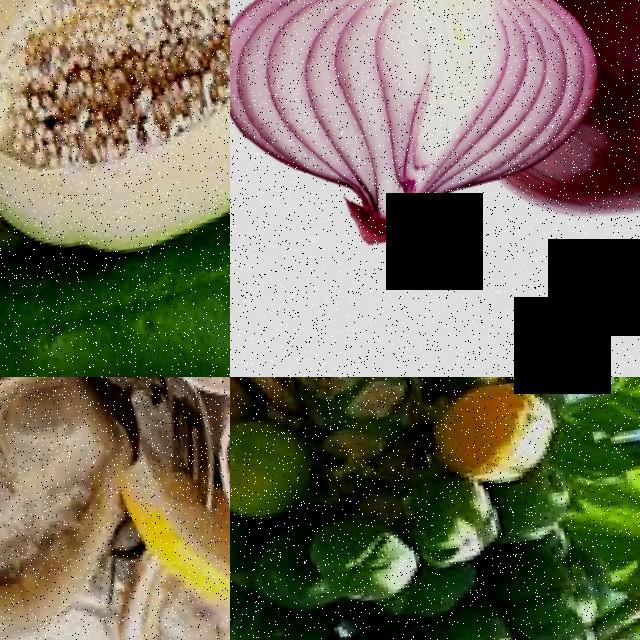onion: (230, 0, 569, 222), (568, 0, 640, 215)
oysters: (0, 377, 132, 640)
pawpaw: (0, 0, 230, 240), (0, 183, 230, 377), (419, 377, 566, 490), (297, 515, 427, 615), (400, 473, 509, 576), (230, 420, 311, 530), (230, 599, 324, 640), (230, 492, 253, 595)
